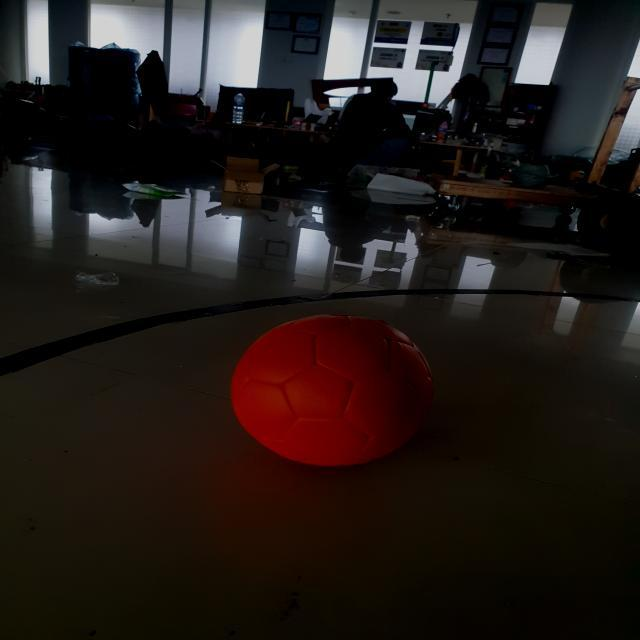bola: (223, 307, 449, 472)
